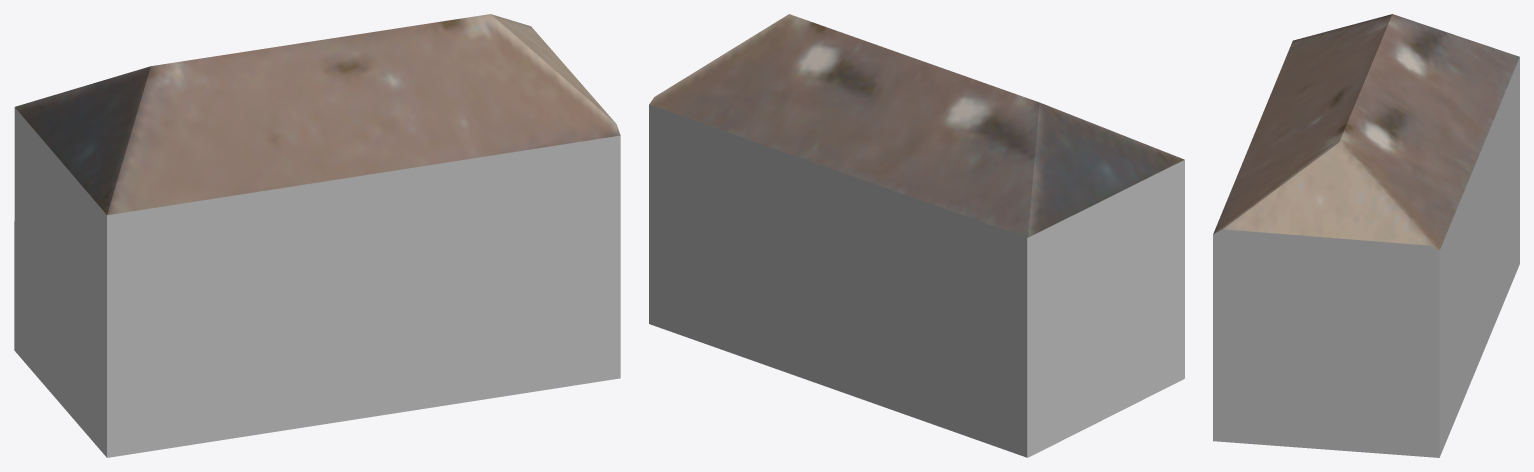
Rendered from DEBW_0010007TxhL.gltf.
3 renders of one model, left to right at view 1: azimuth 30°, elevation 25°; view 2: azimuth 150°, elevation 25°; view 3: azimuth 270°, elevation 25°, orthographic. The views are drawn at different scales.
Parts seen in each view (by area): view 1: Z_UP; view 2: Z_UP; view 3: Z_UP.
Part boxes in pixels (left/top/right/bottom): Z_UP: left=14, top=14, right=620, bottom=457; Z_UP: left=649, top=14, right=1184, bottom=457; Z_UP: left=1213, top=14, right=1519, bottom=457.
Bounding box in the file's own units: 21.97 × 13.41 × 13.52.
Materials: 2 (1 with a texture image).
